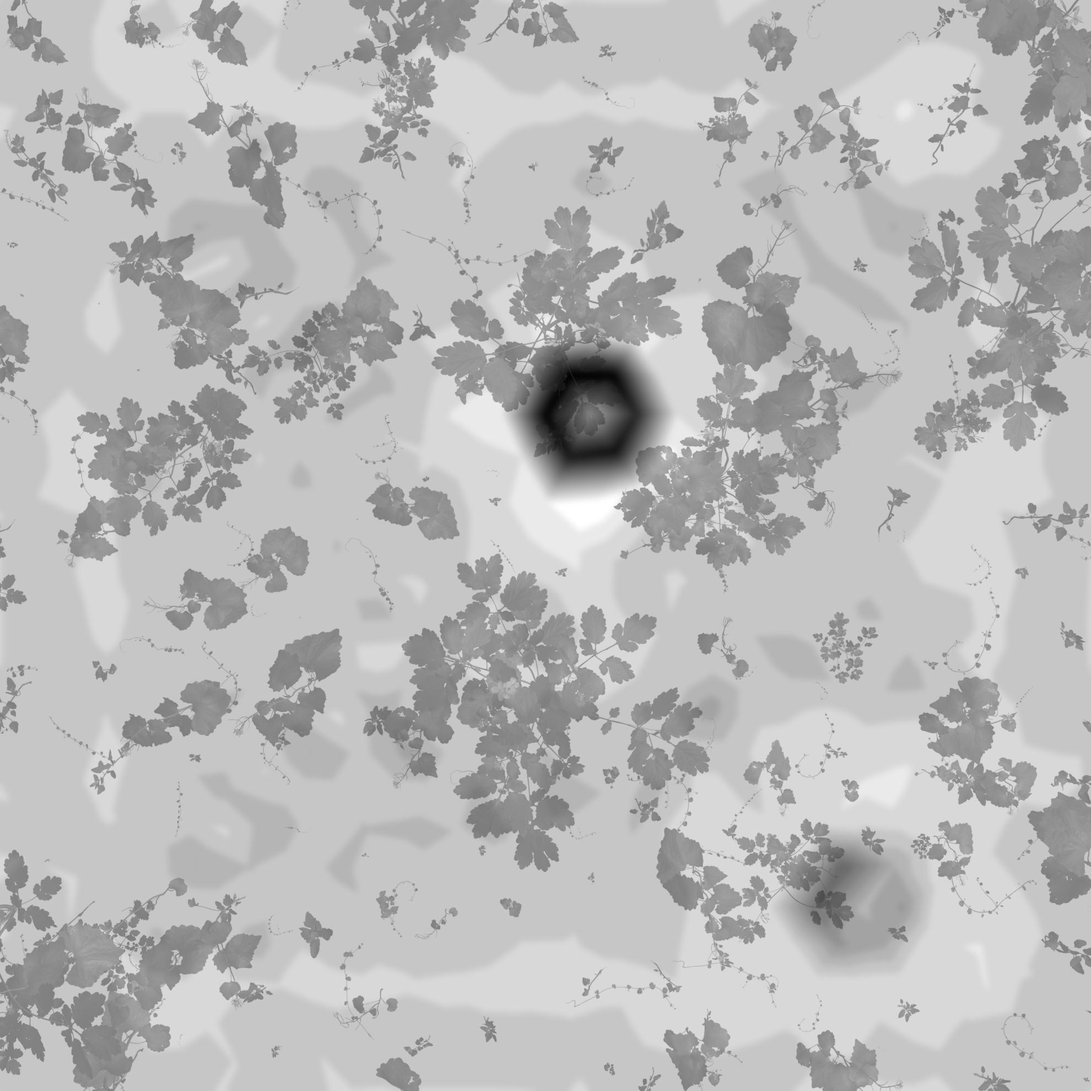landmine: (771, 830, 943, 978), (511, 333, 658, 491)
